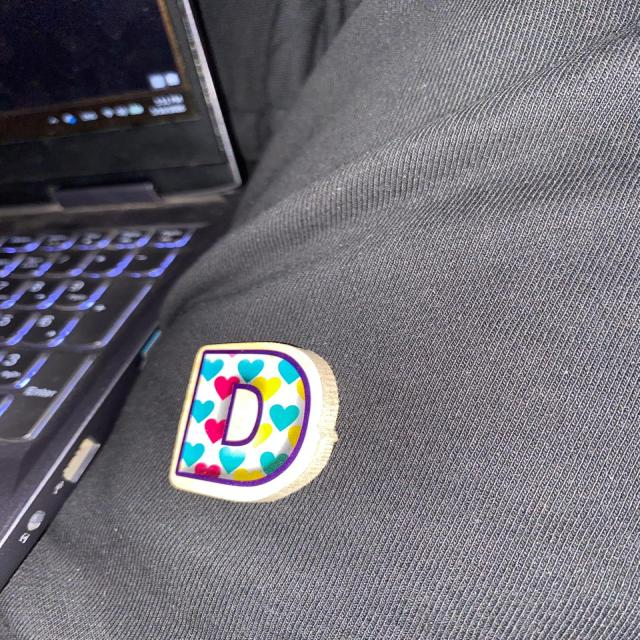D: (169, 342, 338, 502)
